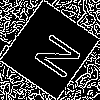N: (24, 25, 83, 82)
